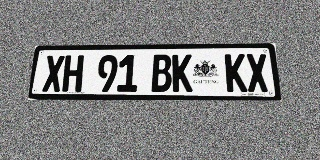1: (117, 55, 138, 92)
9: (97, 55, 118, 92)
B: (151, 54, 172, 92)
H: (62, 55, 84, 92)
K: (225, 54, 248, 92), (172, 54, 193, 92)
X: (245, 54, 269, 92), (42, 55, 65, 92)
